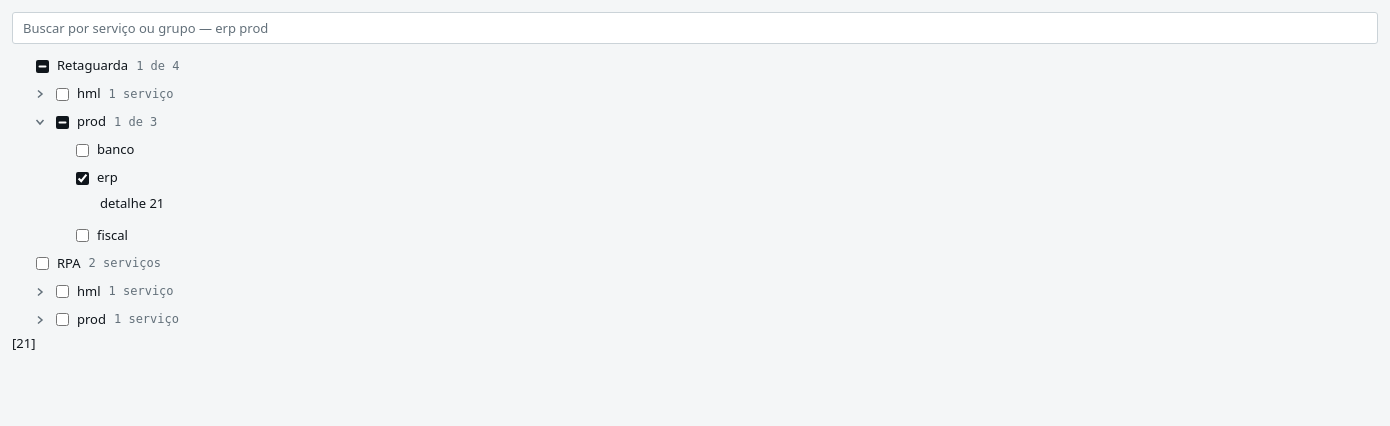
it: MonitorTree › abre os ambientes com algo marcado e fecha os outros
The image size is (1390, 426).
Step 1. Click the button named "Abrir prod, RPA" → (40, 320), box [28,306,52,334]
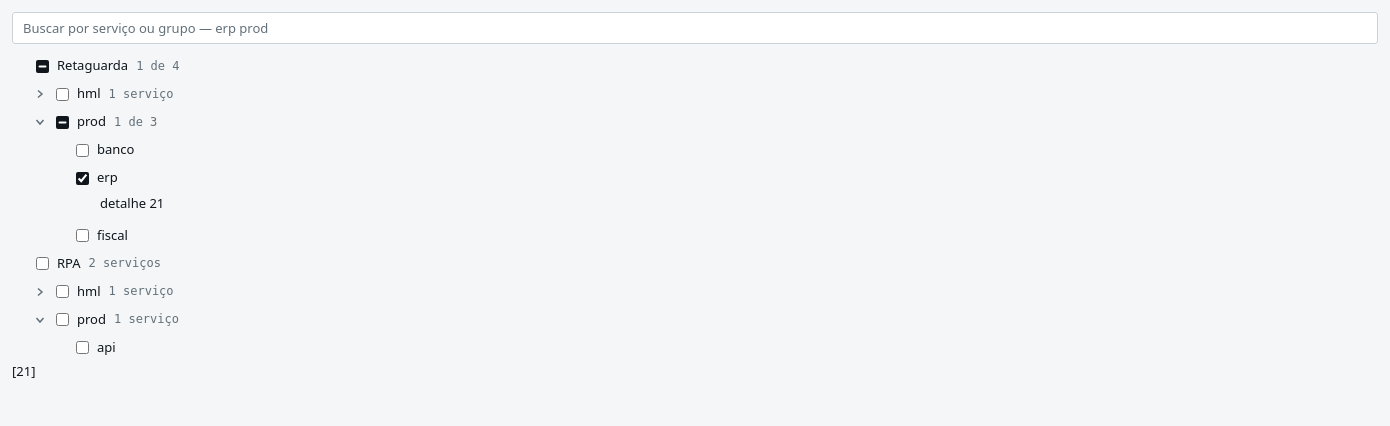
Step 2. Click the checkbox labelled "api" → (82, 348), box [76,341,89,354]
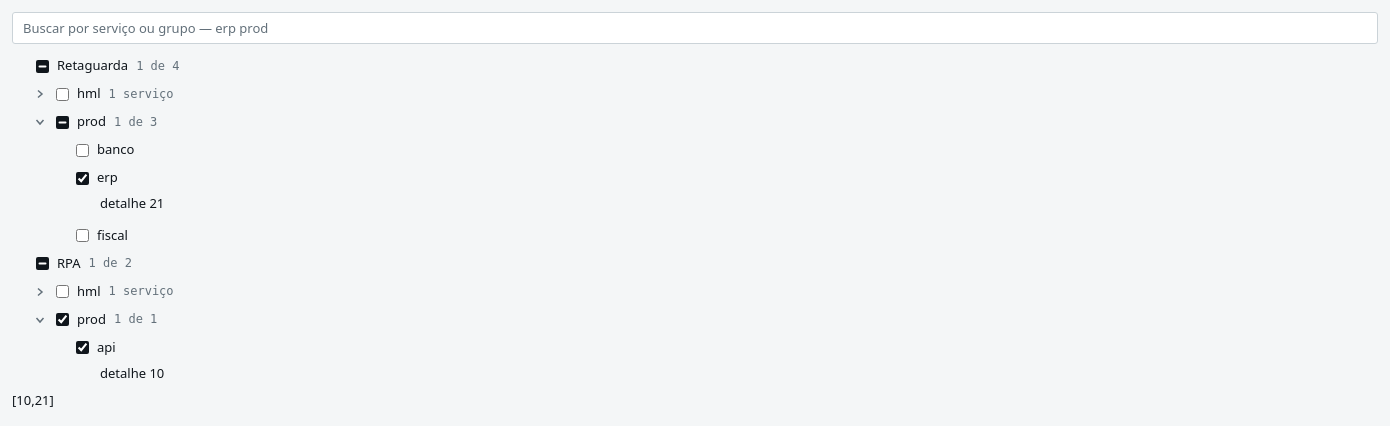
Expected: the text "[10,21]" is shown, [12,391,54,409]
